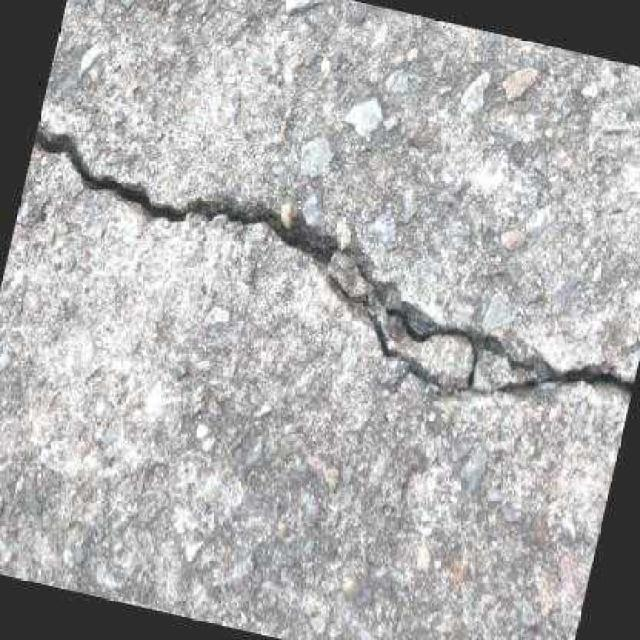D00: (33, 129, 634, 395)
